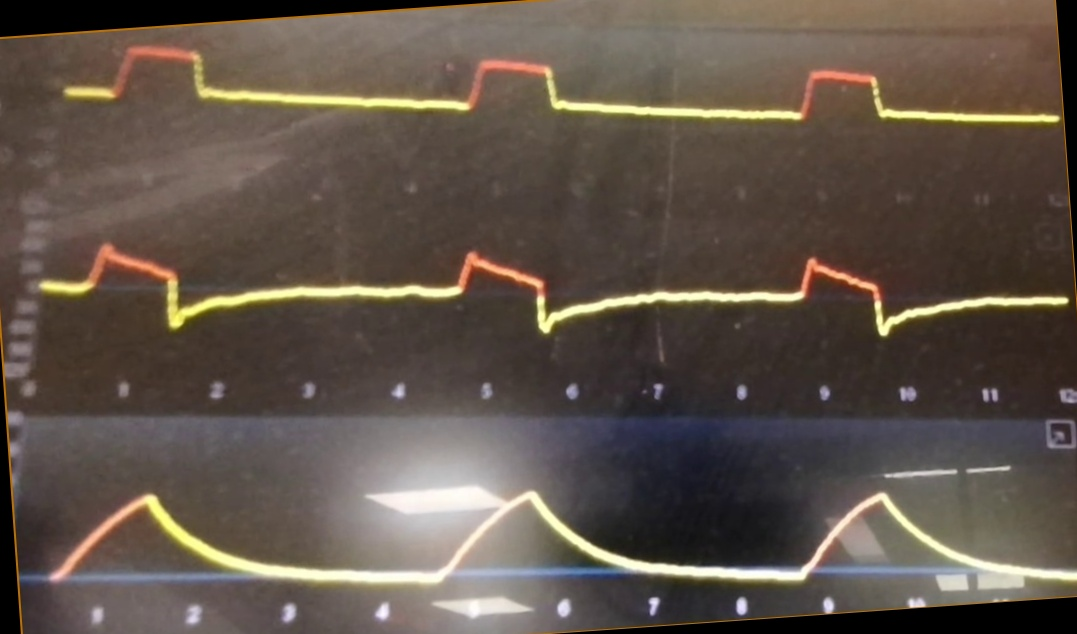Normal Flow: (40, 215, 1066, 367)
Normal Volume: (39, 443, 1076, 597)
